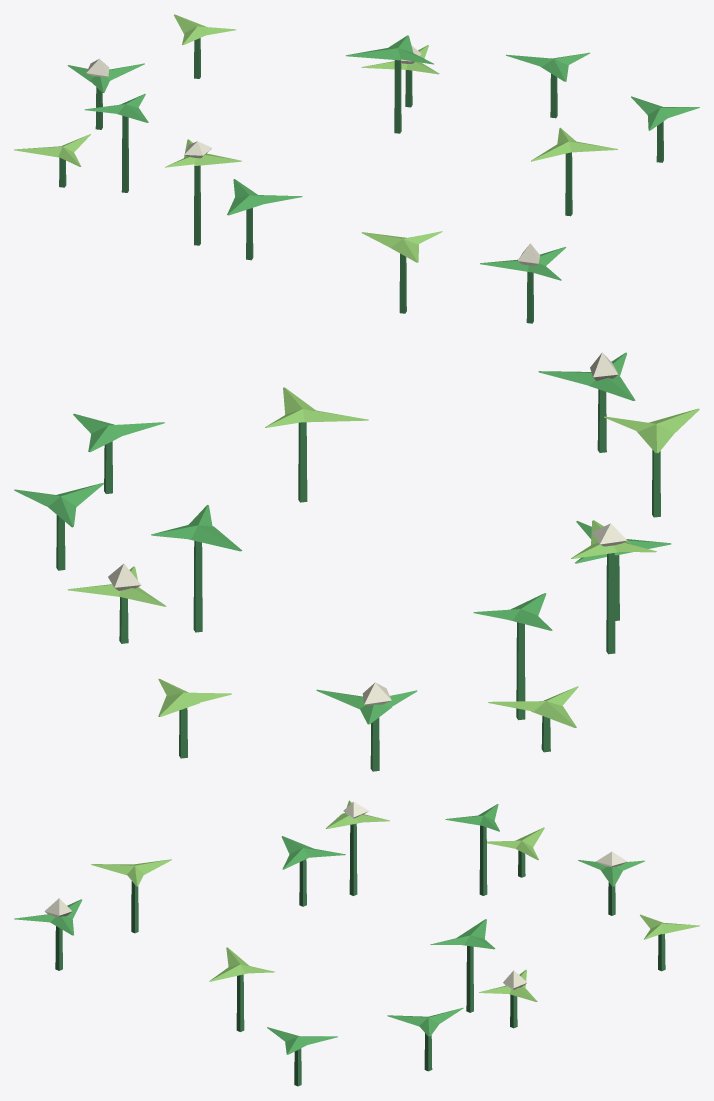
File: clover_patch_c.glb
The picture shows the model from 3 angles, top to bottom: view 1: azimuth 30°, elevation 25°; view 2: azimuth 150°, elevation 25°; view 3: azimuth 270°, elevation 25°; orthographic projection. The views are drawn at different scales.
Parts seen in each view (by area): view 1: CloverPatchC; view 2: CloverPatchC; view 3: CloverPatchC.
Boxes of the visible parts, x1,y1,x2,y2 form: CloverPatchC: [14, 14, 699, 323]; CloverPatchC: [14, 352, 699, 771]; CloverPatchC: [14, 800, 699, 1086].
Size of the model in its own units: 0.6506 by 0.1178 by 0.7869.
